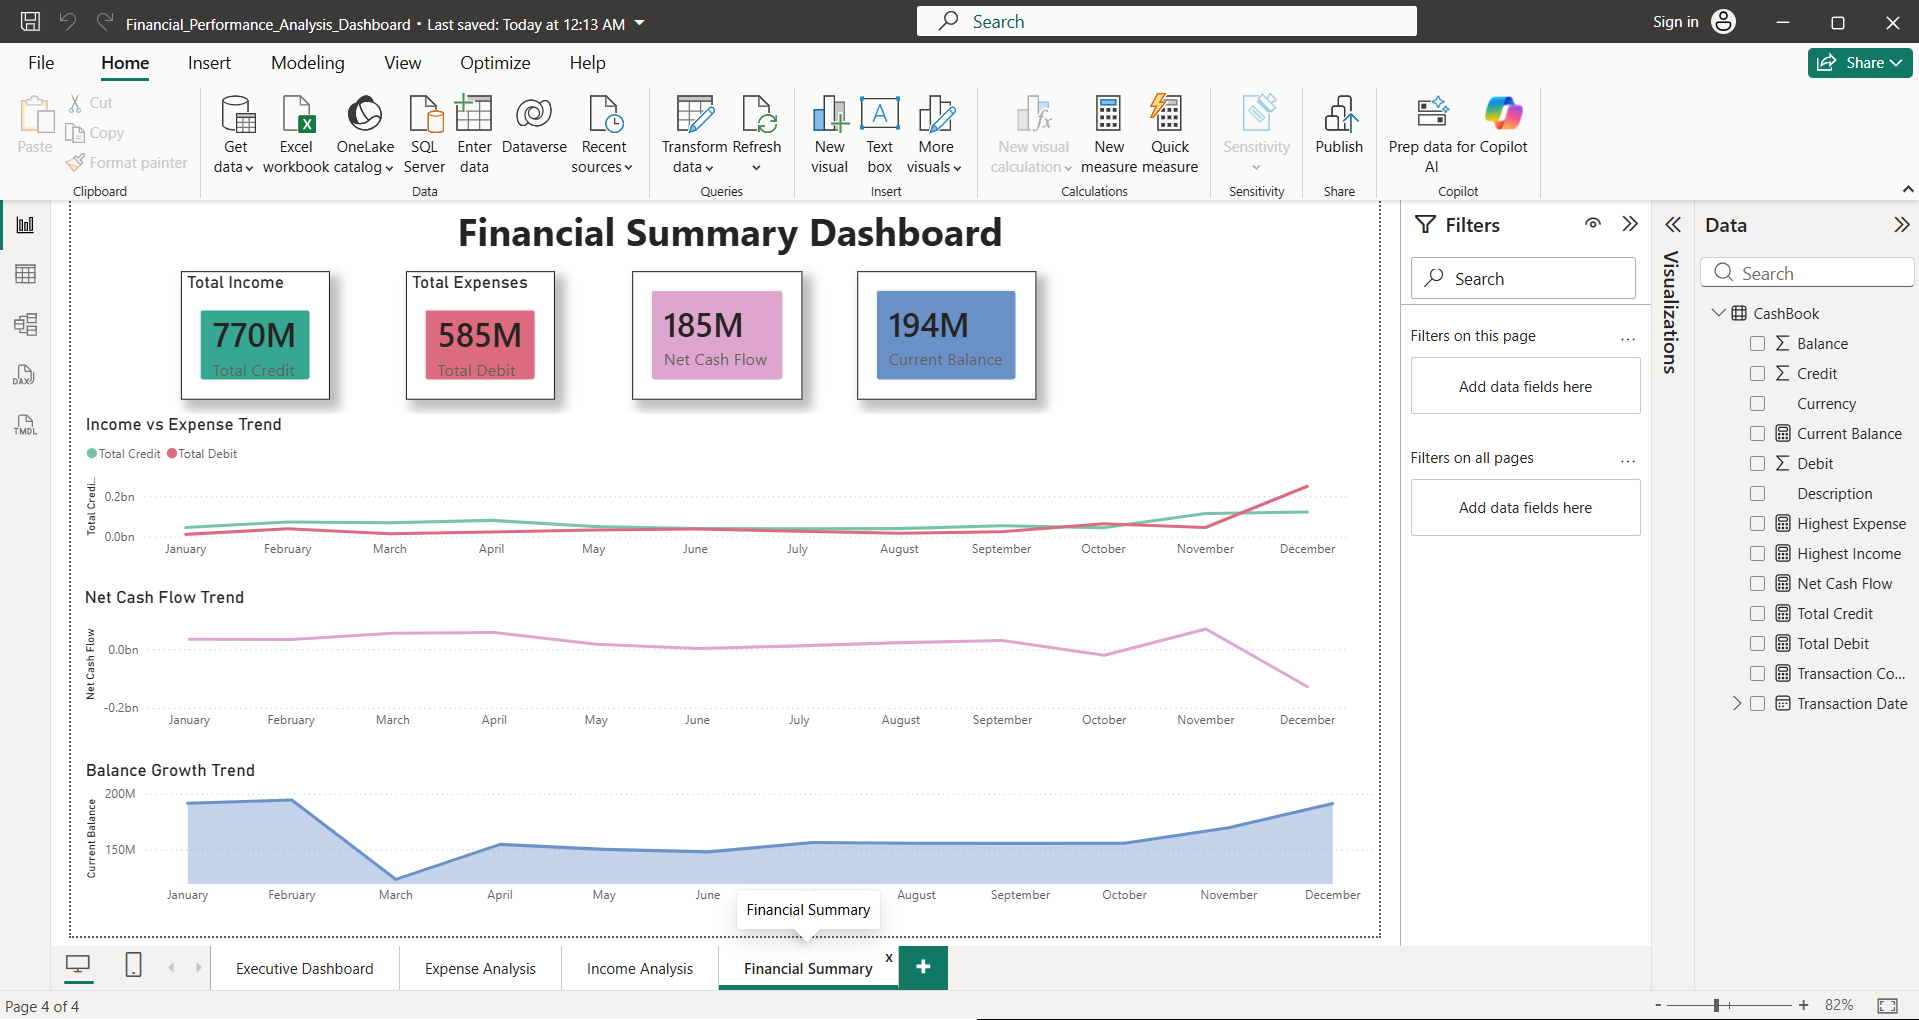

The page's visual inventory and layout, read from the dashboard file:
{"tool":"powerbi","page":{"name":"Financial Summary","canvas":[1280,720],"ordinal":3},"visuals":[{"type":"textbox","box":[10.2,0,1270.2,71.7],"z":0},{"type":"cardVisual","title":"Total Income","fields":{"Data":["CashBook.Total Credit"]},"box":[107.6,69.7,145.5,126],"z":1000},{"type":"cardVisual","title":"Total Expenses","fields":{"Data":["CashBook.Total Debit"]},"box":[327.7,69.7,145.5,126],"z":2000},{"type":"cardVisual","fields":{"Data":["CashBook.Net Cash Flow"]},"box":[549.1,69.7,166.3,126],"z":3000},{"type":"cardVisual","fields":{"Data":["CashBook.Current Balance"]},"box":[769.2,69.7,174.9,126],"z":4000},{"type":"lineChart","title":"Income vs Expense Trend","fields":{"Category":["CashBook.Transaction Date.Variation.Date Hierarchy.Month"],"Y":["CashBook.Total Credit","CashBook.Total Debit"]},"box":[9.8,209.1,1244.8,150.4],"z":5000},{"type":"lineChart","title":"Net Cash Flow Trend","fields":{"Category":["CashBook.Transaction Date.Variation.Date Hierarchy.Month"],"Y":["CashBook.Net Cash Flow"]},"box":[8.6,377.9,1246.1,149.2],"z":6000},{"type":"areaChart","title":"Balance Growth Trend","fields":{"Category":["CashBook.Transaction Date.Variation.Date Hierarchy.Month"],"Y":["CashBook.Current Balance"]},"box":[9.8,547.8,1270.5,150.4],"z":7000}]}

Visuals, with their boxes on the page's 1280x720 design canvas (x1, y1, x2, y2). These are canvas units, not pixel positions in the 1919x1020 screenshot, which may show the page scaled, cropped or inside an application window:
textbox: x1=10 y1=0 x2=1280 y2=72
"Total Income" cardVisual: x1=108 y1=70 x2=253 y2=196
"Total Expenses" cardVisual: x1=328 y1=70 x2=473 y2=196
cardVisual - CashBook.Net Cash Flow: x1=549 y1=70 x2=715 y2=196
cardVisual - CashBook.Current Balance: x1=769 y1=70 x2=944 y2=196
"Income vs Expense Trend" lineChart: x1=10 y1=209 x2=1255 y2=360
"Net Cash Flow Trend" lineChart: x1=9 y1=378 x2=1255 y2=527
"Balance Growth Trend" areaChart: x1=10 y1=548 x2=1280 y2=698
